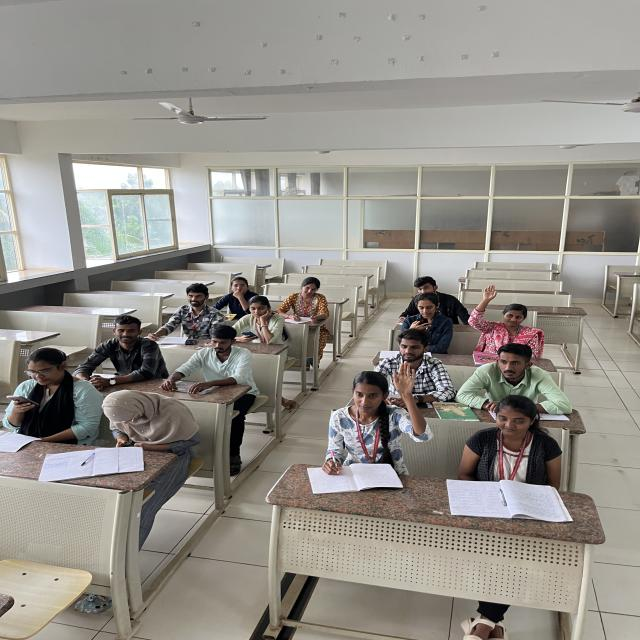Hand Rising: (308, 358, 428, 459), (463, 267, 551, 360)
Using Phone: (0, 347, 103, 437), (102, 382, 204, 449), (399, 287, 460, 353), (236, 290, 290, 352)
Writing: (278, 273, 341, 335)
